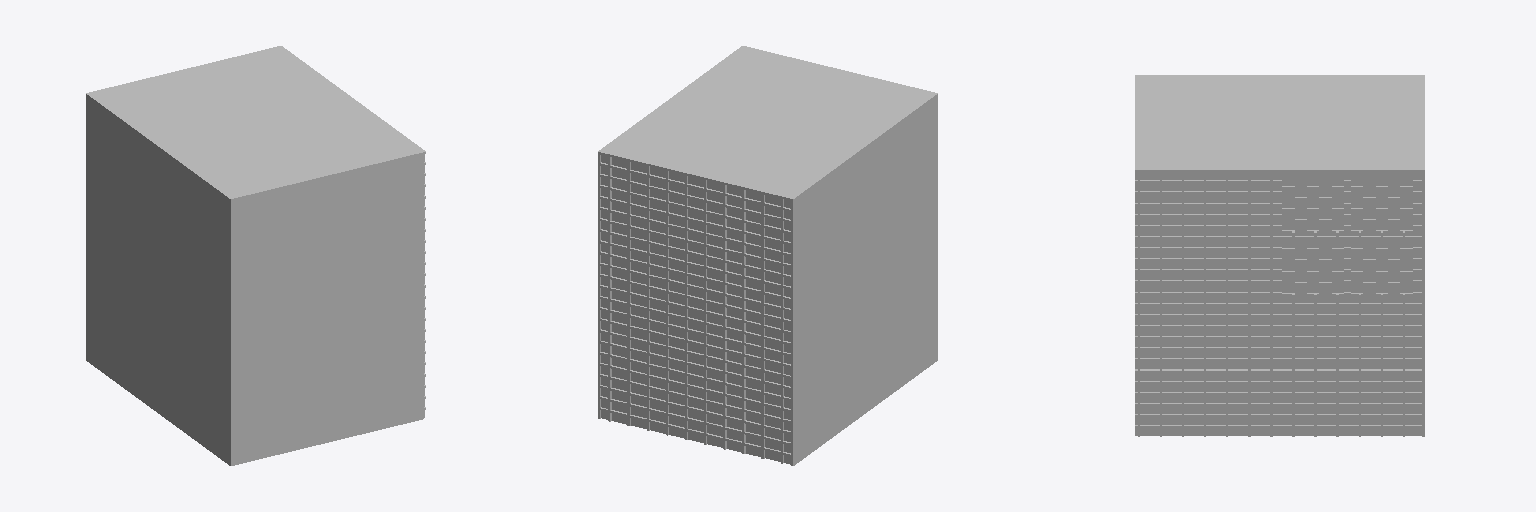
Rendered from 3d fon 1.1-17.obj.
The picture shows the model from 3 angles: view 1: azimuth 30°, elevation 25°; view 2: azimuth 150°, elevation 25°; view 3: azimuth 270°, elevation 25°; orthographic projection.
Visible parts, largest first — view 1: object 1; view 2: object 1; view 3: object 1.
Boxes of the visible parts, <box> form: object 1: <box>86,46,425,465</box>; object 1: <box>598,46,937,465</box>; object 1: <box>1135,75,1424,436</box>.
Size of the model in its own units: 9.2 by 12 by 11.8.